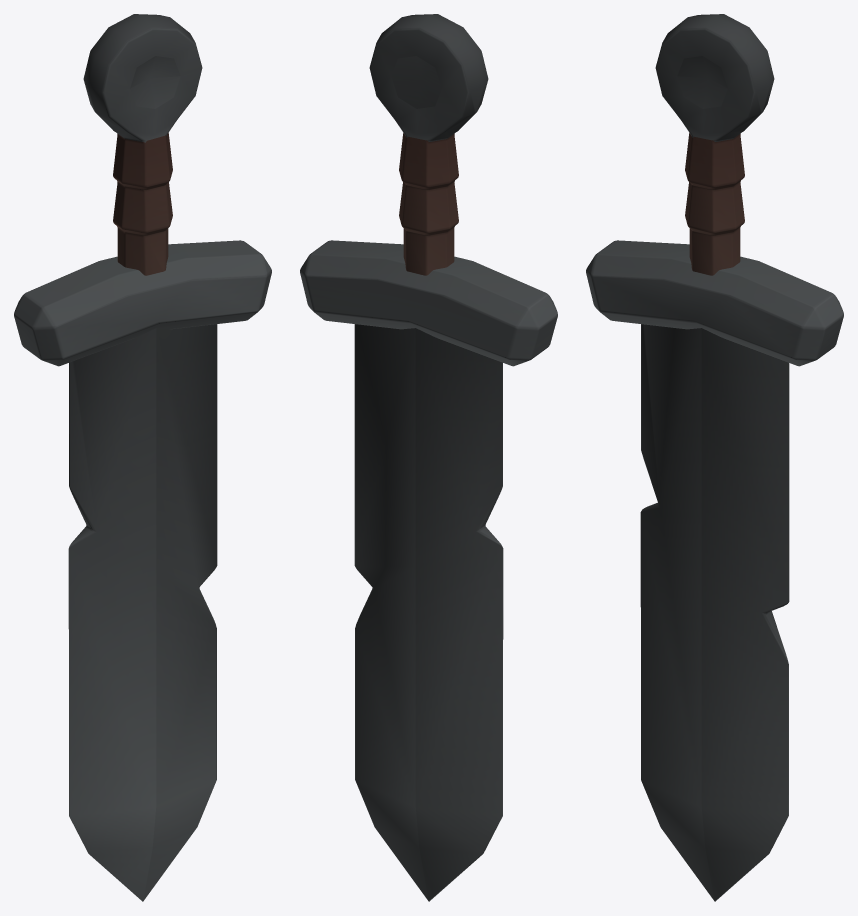
File: sword_3.glb
3 views of the same model, side by side, from view 1: azimuth 30°, elevation 25°; view 2: azimuth 150°, elevation 25°; view 3: azimuth 330°, elevation 25° (orthographic).
Visible parts, largest first — view 1: sword_3; view 2: sword_3; view 3: sword_3.
Boxes of the visible parts, x1=… form: sword_3: x1=14, y1=14, x2=271, y2=901; sword_3: x1=300, y1=14, x2=557, y2=901; sword_3: x1=586, y1=14, x2=843, y2=901.
Bounding box in the file's own units: 0.269 × 0.95 × 0.07.
Materials: 1 (1 with a texture image).
